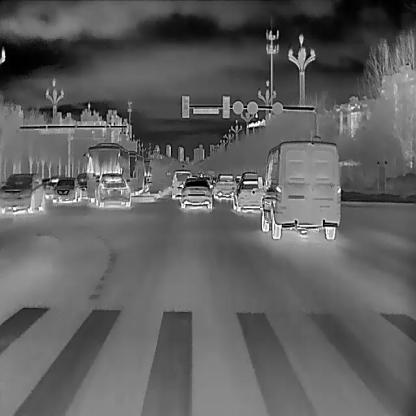bus: (82, 143, 127, 197), (124, 149, 144, 195)
car: (260, 139, 340, 240), (0, 172, 44, 214), (94, 173, 130, 209), (179, 176, 214, 209), (231, 179, 264, 213), (52, 178, 80, 204), (210, 174, 236, 201), (170, 170, 192, 198), (44, 176, 66, 199), (237, 172, 261, 192)
